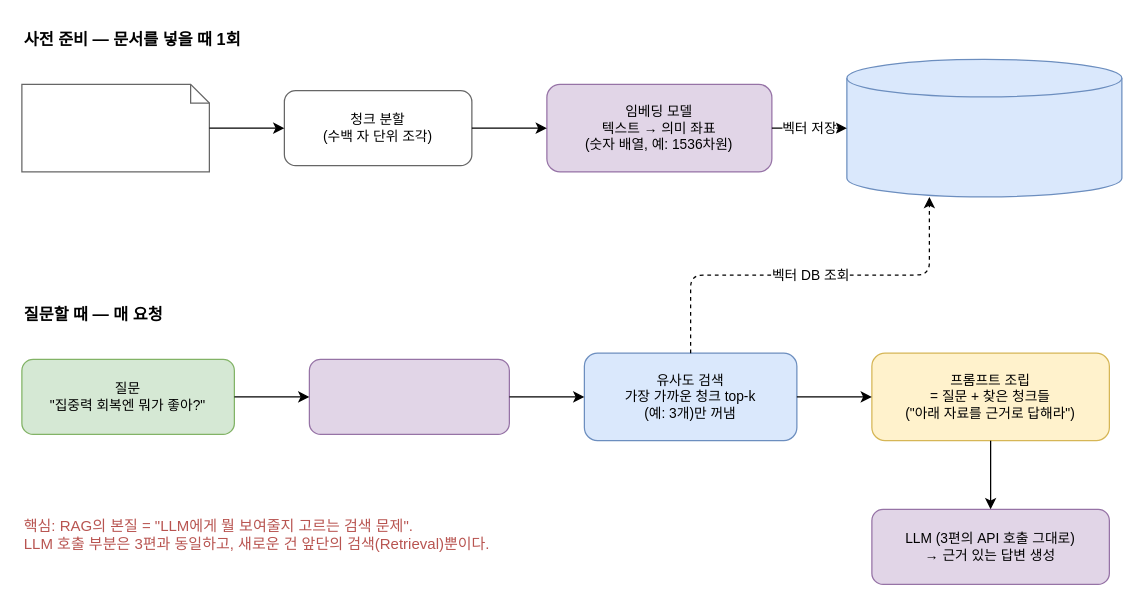
This 1144x606 diagram has some shape labels left out. The box of each missing label's shape, as (x1, y1, x2, y2) in pixels:
같은 임베딩 모델로 질문도 좌표화: (308, 358, 509, 434)
문서들 (사내 위키·아티클 등): (21, 83, 209, 172)
벡터 DB (pgvector = PostgreSQL 확장으로도 가능) "이 좌표와 가까운 k개"를 빨리 찾음: (846, 58, 1122, 197)
